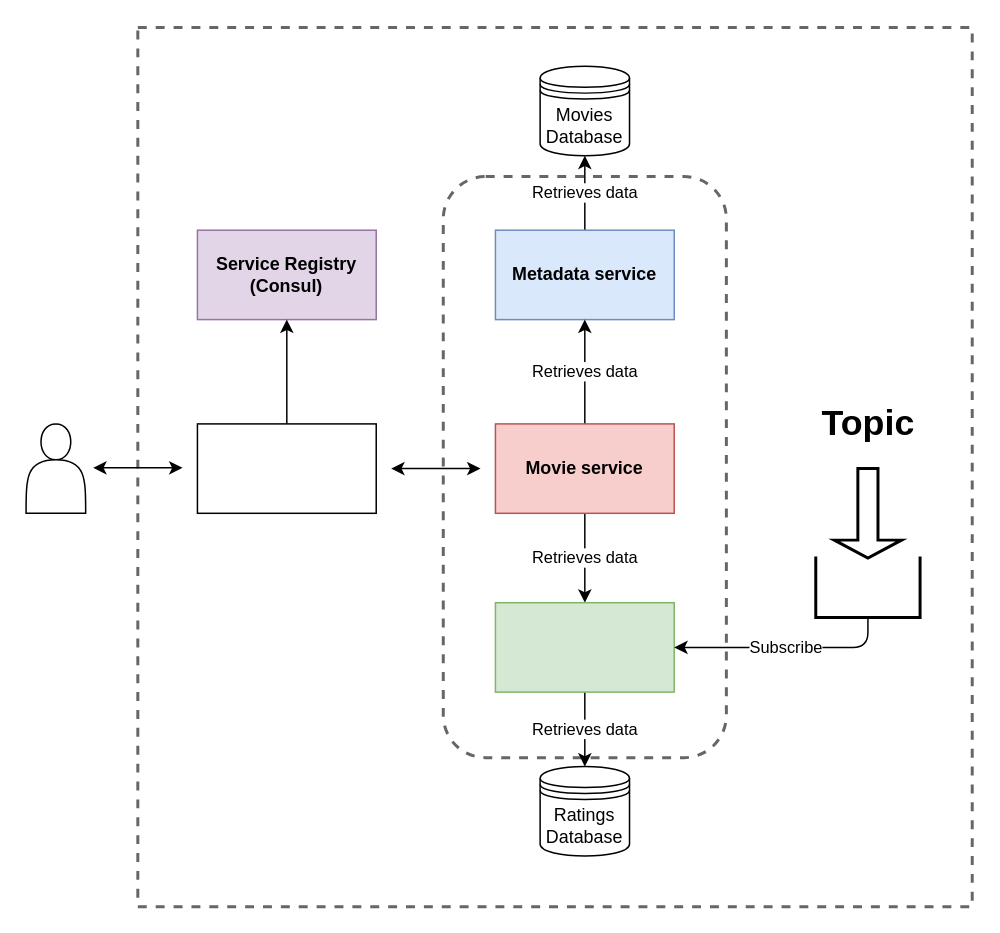
Image size: 1000x933. Some labels were removed from this diagram. Each missing label, with the centre of its shape:
Load Balancer: the point at 286,467
Rating service: the point at 584,646
